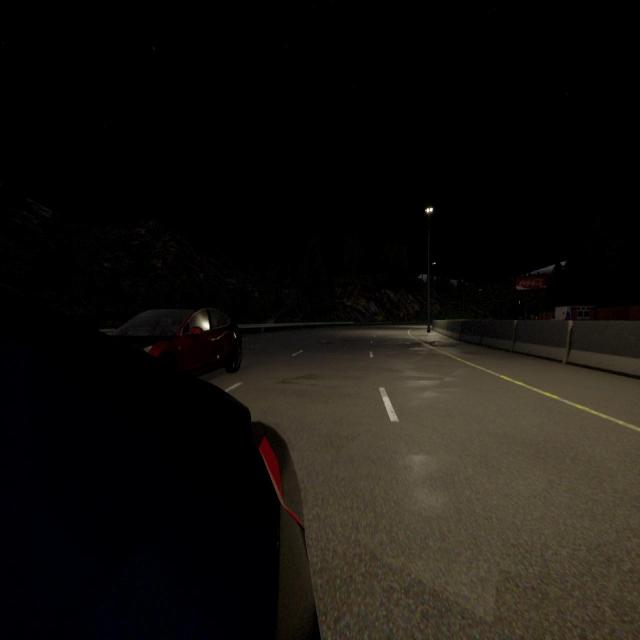Vehicle: (0, 328, 330, 640), (112, 305, 243, 378)
